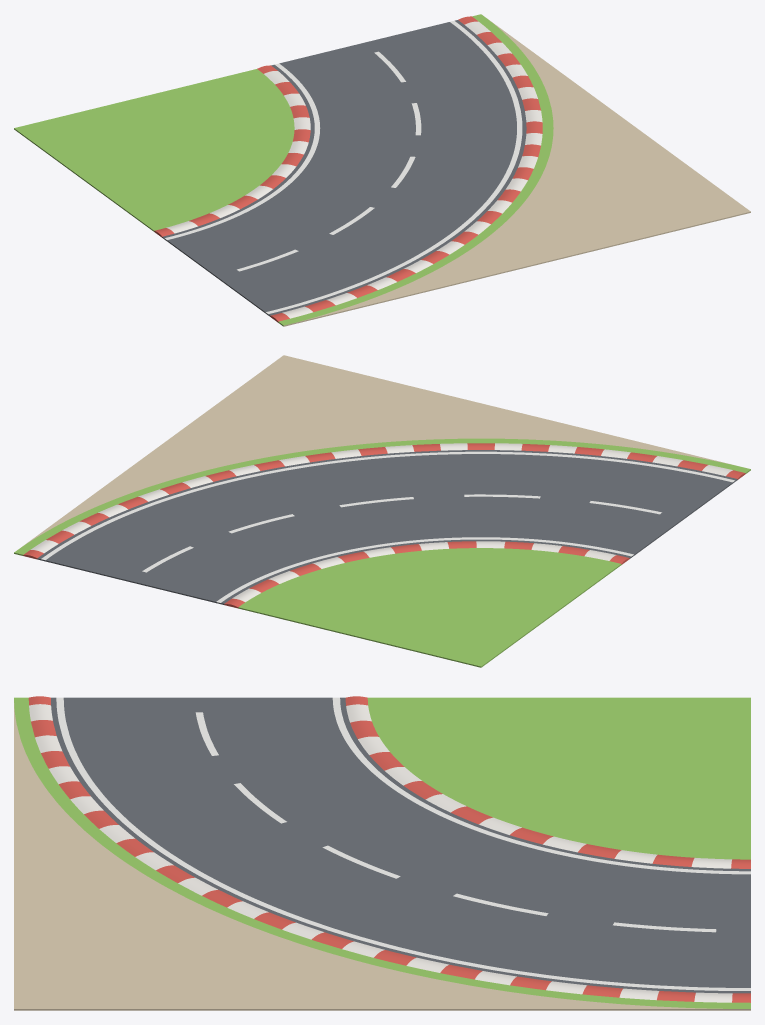
File: race-track-curve-90.glb
The picture shows the model from 3 angles, top to bottom: view 1: azimuth 30°, elevation 25°; view 2: azimuth 150°, elevation 25°; view 3: azimuth 270°, elevation 25°; orthographic projection. The views are drawn at different scales.
Parts seen in each view (by area): view 1: race-track-curve-90_asphalt, race-track-curve-90_verge, race-track-curve-90_curbs; view 2: race-track-curve-90_asphalt, race-track-curve-90_verge, race-track-curve-90_curbs; view 3: race-track-curve-90_asphalt, race-track-curve-90_verge, race-track-curve-90_curbs.
Part boxes in pixels (x1,y1,x2,y2): race-track-curve-90_asphalt: (162, 20, 526, 316); race-track-curve-90_verge: (14, 14, 750, 326); race-track-curve-90_curbs: (154, 16, 542, 322); race-track-curve-90_asphalt: (37, 450, 737, 604); race-track-curve-90_verge: (14, 355, 750, 667); race-track-curve-90_curbs: (23, 443, 745, 608); race-track-curve-90_asphalt: (51, 697, 750, 993); race-track-curve-90_verge: (14, 697, 750, 1010); race-track-curve-90_curbs: (28, 696, 750, 1002).
Bounding box in the file's own units: 20 × 0.09 × 20.
